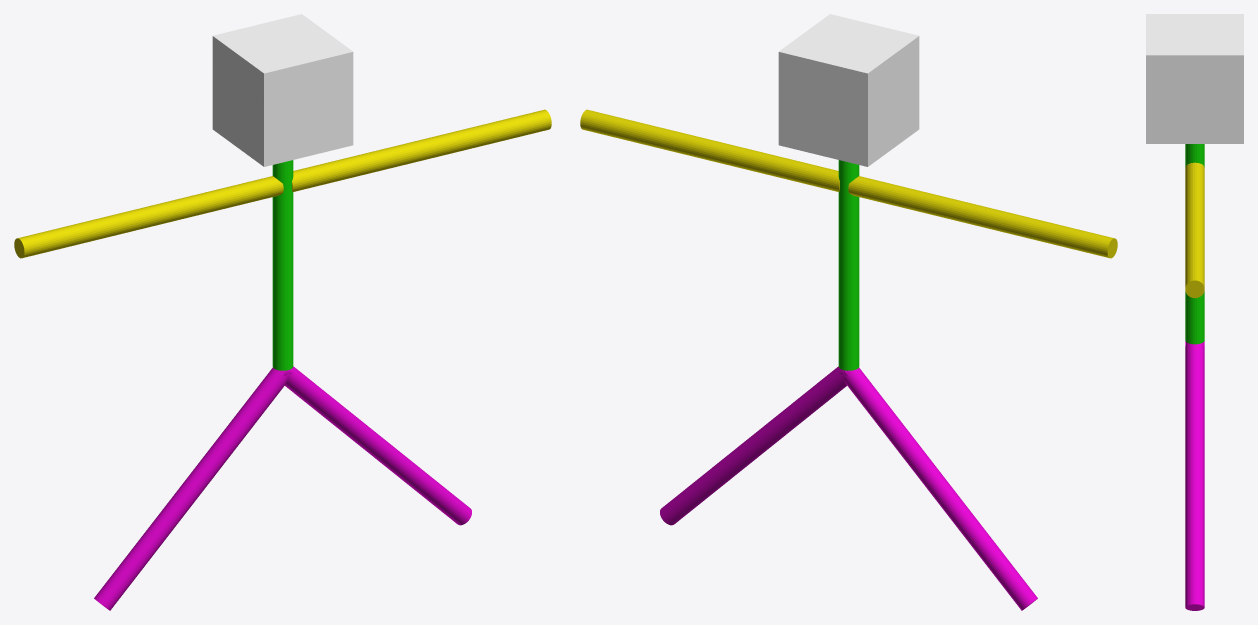
Rendered from unMixamoStick.fbx.
3 renders of one model, left to right at view 1: azimuth 30°, elevation 25°; view 2: azimuth 150°, elevation 25°; view 3: azimuth 270°, elevation 25°, orthographic. The views are drawn at different scales.
Parts seen in each view (by area): view 1: sticc; view 2: sticc; view 3: sticc.
Part boxes in pixels (x1,y1,x2,y2): sticc: (14,14,551,610); sticc: (580,14,1117,610); sticc: (1146,14,1243,610).
Bounding box in the file's own units: 1180 × 1119 × 200.
